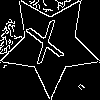X: (25, 20, 69, 74)
